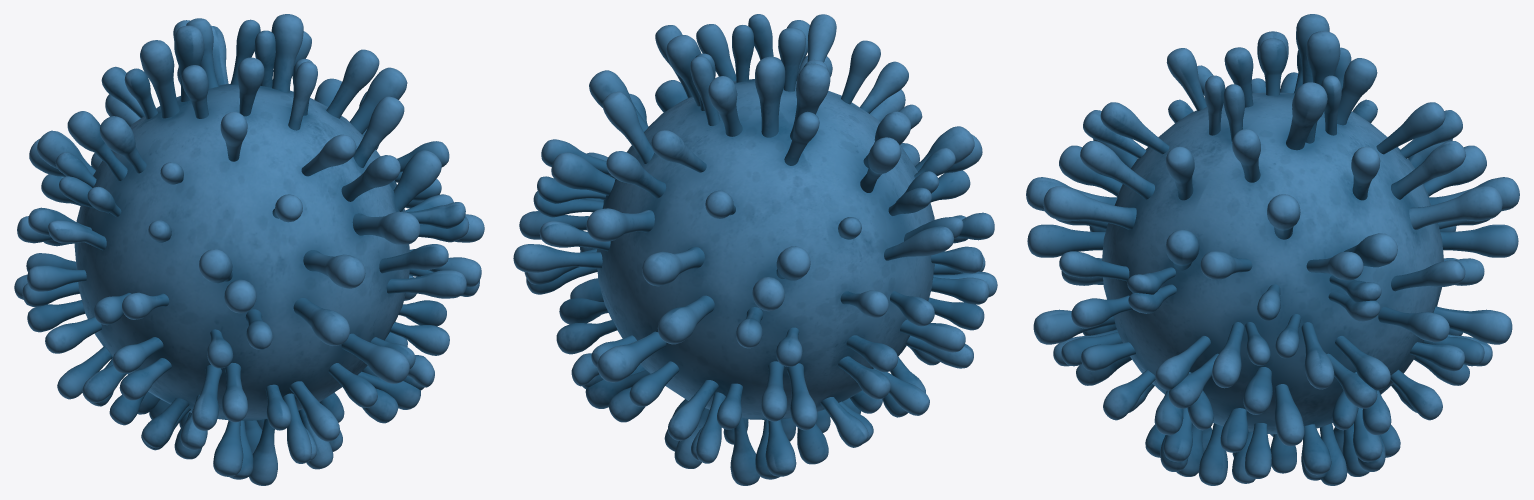
The model's file is cell03.fbx.
3 renders of one model, left to right at view 1: azimuth 30°, elevation 25°; view 2: azimuth 150°, elevation 25°; view 3: azimuth 270°, elevation 25°, orthographic.
Visible parts, largest first — view 1: pSphere1, polySurface89, polySurface88, polySurface93, polySurface103, polySurface91, polySurface125, polySurface121, polySurface69, polySurface92, polySurface107, polySurface7 (+63 smaller); view 2: pSphere1, polySurface53, polySurface95, polySurface10, polySurface51, polySurface63, polySurface58, polySurface64, polySurface50, polySurface89, polySurface68, polySurface62 (+64 smaller); view 3: pSphere1, polySurface63, polySurface91, polySurface50, polySurface127, polySurface10, polySurface62, polySurface79, polySurface88, polySurface61, polySurface117, polySurface53 (+66 smaller).
Boxes of the visible parts, <box> form: pSphere1: <box>74,84,409,420</box>; polySurface89: <box>140,40,179,118</box>; polySurface88: <box>271,14,303,92</box>; polySurface93: <box>341,333,409,383</box>; polySurface103: <box>387,270,466,298</box>; polySurface91: <box>352,211,420,244</box>; polySurface125: <box>393,150,441,211</box>; polySurface121: <box>353,96,404,167</box>; polySurface69: <box>326,49,379,118</box>; polySurface92: <box>67,111,127,180</box>; polySurface107: <box>303,250,365,288</box>; polySurface7: <box>349,67,407,134</box>; pSphere1: <box>596,79,934,419</box>; polySurface53: <box>513,244,602,272</box>; polySurface95: <box>755,56,785,137</box>; polySurface10: <box>597,331,666,382</box>; polySurface51: <box>551,152,615,195</box>; polySurface63: <box>586,208,654,241</box>; polySurface58: <box>602,91,654,163</box>; polySurface64: <box>642,247,704,286</box>; polySurface50: <box>657,295,714,344</box>; polySurface89: <box>790,63,830,139</box>; polySurface68: <box>884,226,953,260</box>; polySurface62: <box>606,151,666,198</box>; pSphere1: <box>1102,92,1443,434</box>; polySurface63: <box>1409,186,1502,229</box>; polySurface91: <box>1043,186,1136,229</box>; polySurface50: <box>1440,224,1518,257</box>; polySurface127: <box>1027,224,1105,257</box>; polySurface10: <box>1433,306,1512,344</box>; polySurface62: <box>1391,141,1465,199</box>; polySurface79: <box>1080,141,1154,199</box>; polySurface88: <box>1286,82,1327,150</box>; polySurface61: <box>1376,102,1445,154</box>; polySurface117: <box>1100,102,1169,154</box>; polySurface53: <box>1378,306,1449,342</box>.
Size of the model in its own units: 41.06 by 39.25 by 41.58.
